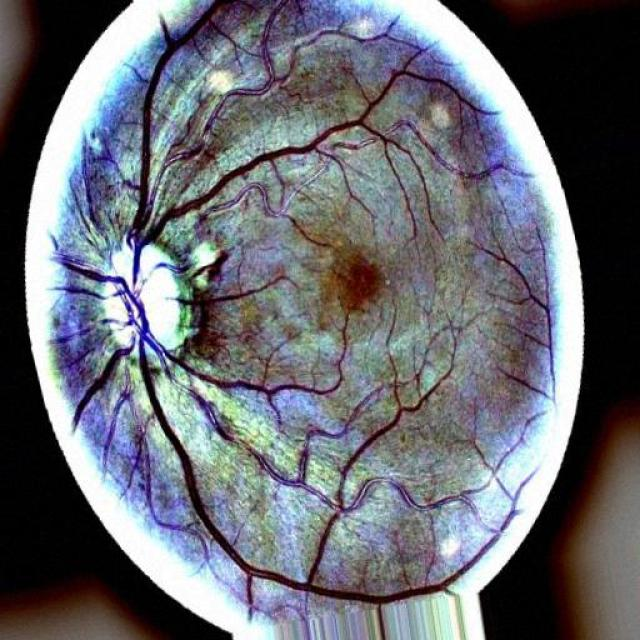Macula: (327, 250, 398, 324)
Nerves: (50, 247, 398, 617), (159, 113, 360, 234), (121, 35, 183, 298), (63, 349, 128, 426)
Optic Disk: (102, 234, 199, 366)
